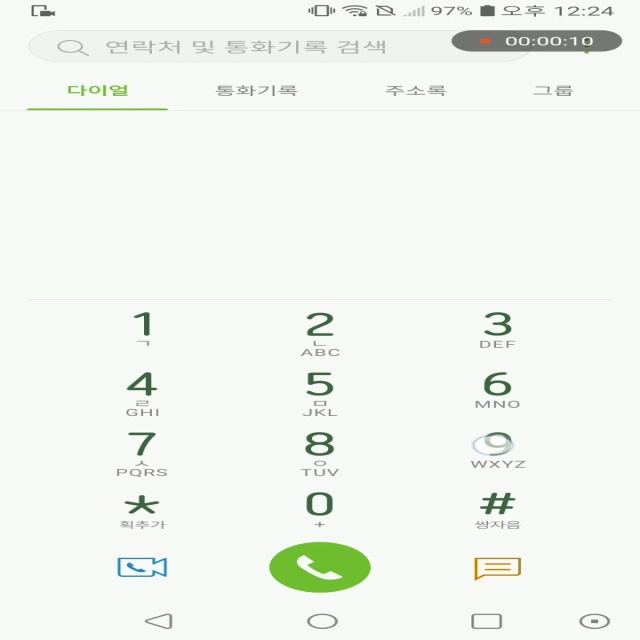Cursor: (472, 435, 516, 457)
